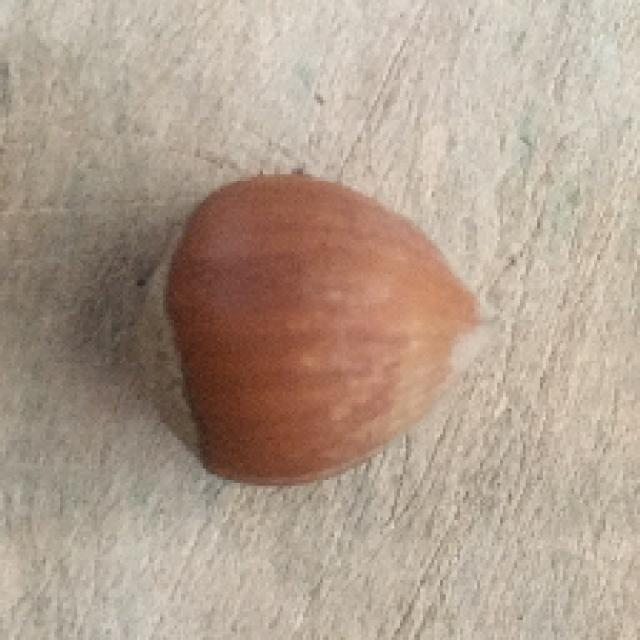QualityHazelnut: (145, 176, 500, 482)
